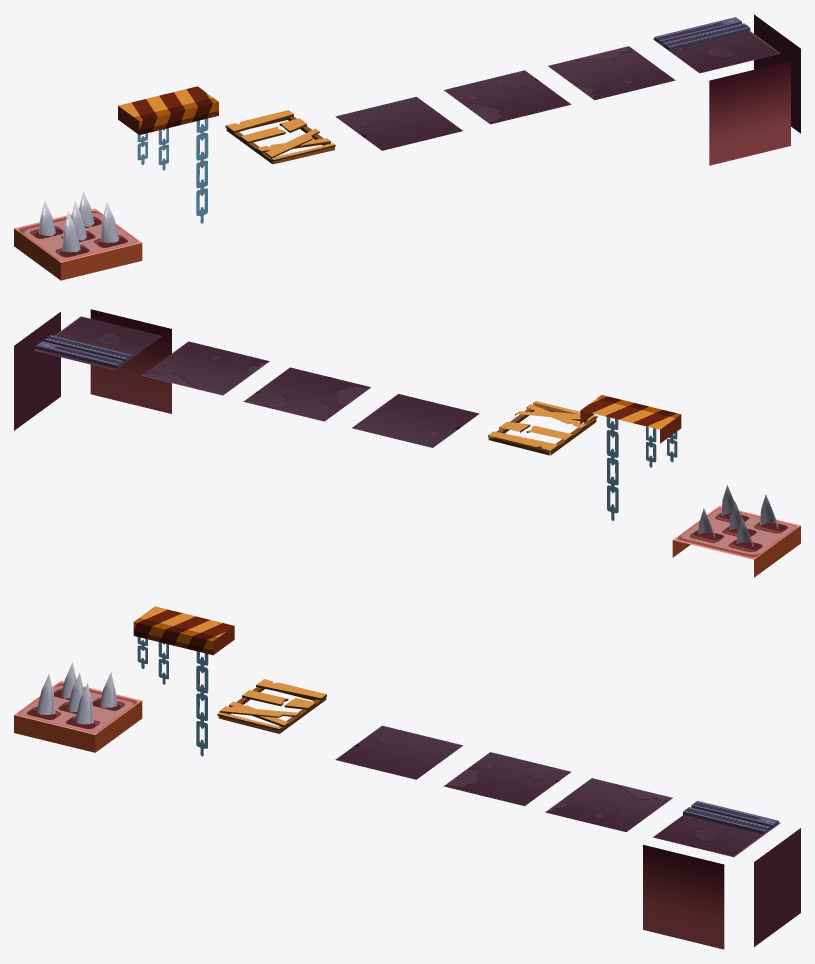
The model's file is BG01_BG01png.FBX.
3 renders of one model, top to bottom at view 1: azimuth 30°, elevation 25°; view 2: azimuth 150°, elevation 25°; view 3: azimuth 330°, elevation 25°, orthographic.
Visible parts, largest first — view 1: Object001, Plane002, BG002, BG01, BG007, BG009, Box005, BG008, BG015, Object002, Box018, Box017; view 2: Object001, BG002, BG007, BG009, BG01, Plane002, Object002, Box005, BG008, BG015, Box017, Box018; view 3: Object001, Plane002, BG002, Object002, BG01, BG007, BG009, Box005, BG008, BG015, Box018, Box017.
Part boxes in pixels (bbox=[...]): Object001: bbox=[709, 61, 790, 165]; Plane002: bbox=[118, 86, 218, 223]; BG002: bbox=[14, 208, 142, 280]; BG01: bbox=[335, 96, 462, 150]; BG007: bbox=[444, 70, 571, 124]; BG009: bbox=[548, 46, 675, 100]; Box005: bbox=[225, 110, 335, 164]; BG008: bbox=[653, 31, 780, 73]; BG015: bbox=[39, 191, 118, 252]; Object002: bbox=[754, 14, 800, 133]; Box018: bbox=[663, 23, 750, 50]; Box017: bbox=[654, 17, 741, 44]; Object001: bbox=[90, 309, 171, 413]; BG002: bbox=[672, 505, 800, 577]; BG007: bbox=[243, 367, 370, 421]; BG009: bbox=[142, 341, 269, 395]; BG01: bbox=[352, 394, 479, 447]; Plane002: bbox=[580, 395, 681, 520]; Object002: bbox=[14, 312, 60, 430]; Box005: bbox=[488, 401, 597, 455]; BG008: bbox=[34, 316, 161, 370]; BG015: bbox=[698, 485, 778, 546]; Box017: bbox=[36, 341, 123, 368]; Box018: bbox=[44, 335, 131, 362]; Object001: bbox=[643, 844, 724, 949]; Plane002: bbox=[133, 606, 234, 756]; BG002: bbox=[14, 681, 142, 752]; Object002: bbox=[754, 828, 800, 946]; BG01: bbox=[335, 725, 462, 779]; BG007: bbox=[443, 752, 571, 806]; BG009: bbox=[545, 778, 672, 832]; Box005: bbox=[217, 679, 326, 733]; BG008: bbox=[653, 815, 780, 857]; BG015: bbox=[36, 663, 116, 724]; Box018: bbox=[683, 807, 770, 834]; Box017: bbox=[691, 801, 778, 828].
Bounding box in the file's own units: 9.09 × 1.81 × 1.21.
